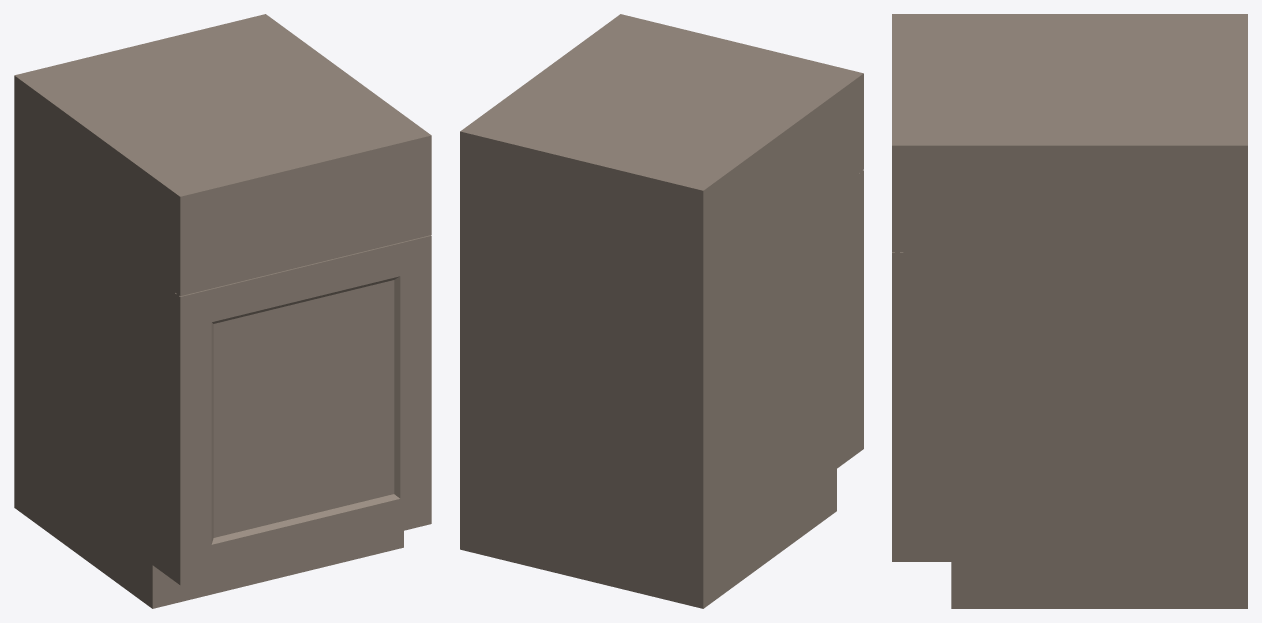
Rendered from Base-Cabinet-Single-Door-One-Drawer-24-Deep (1).std.glb.
The picture shows the model from 3 angles, left to right: view 1: azimuth 30°, elevation 25°; view 2: azimuth 150°, elevation 25°; view 3: azimuth 270°, elevation 25°; orthographic projection. The views are drawn at different scales.
Visible parts, largest first — view 1: Dartmouth; view 2: Dartmouth; view 3: Dartmouth.
Part boxes in pixels (left/top/right/bottom): Dartmouth: left=14, top=14, right=431, bottom=608; Dartmouth: left=460, top=14, right=863, bottom=608; Dartmouth: left=892, top=14, right=1247, bottom=608.
Bounding box in the file's own units: 0.5337 × 0.8769 × 0.61.
